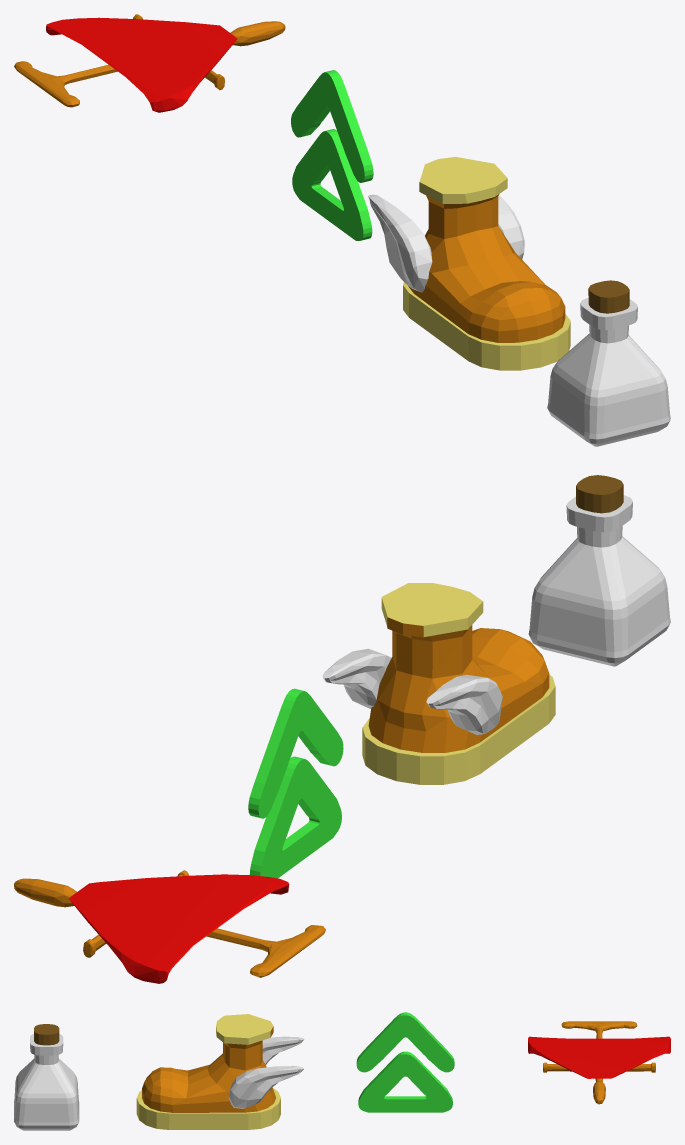
The model's file is POWERUPS.fbx.
3 renders of one model, top to bottom at view 1: azimuth 30°, elevation 25°; view 2: azimuth 150°, elevation 25°; view 3: azimuth 270°, elevation 25°, orthographic. The views are drawn at different scales.
Parts seen in each view (by area): view 1: Plane, Cube, Cube.002, Cube.001; view 2: Plane, Cube, Cube.002, Cube.001; view 3: Plane, Cube.001, Cube.002, Cube.
Boxes of the visible parts, x1,y1,x2,y2 form: Plane: (368,157,570,370); Cube: (547,280,670,446); Cube.002: (14,14,285,112); Cube.001: (291,70,373,240); Plane: (322,583,555,784); Cube: (528,475,670,666); Cube.002: (14,870,325,983); Cube.001: (248,688,343,878); Plane: (136,1014,303,1129); Cube.001: (356,1012,454,1112); Cube.002: (528,1021,670,1104); Cube: (14,1024,79,1130).
Size of the model in its own units: 420 by 257 by 1468.
